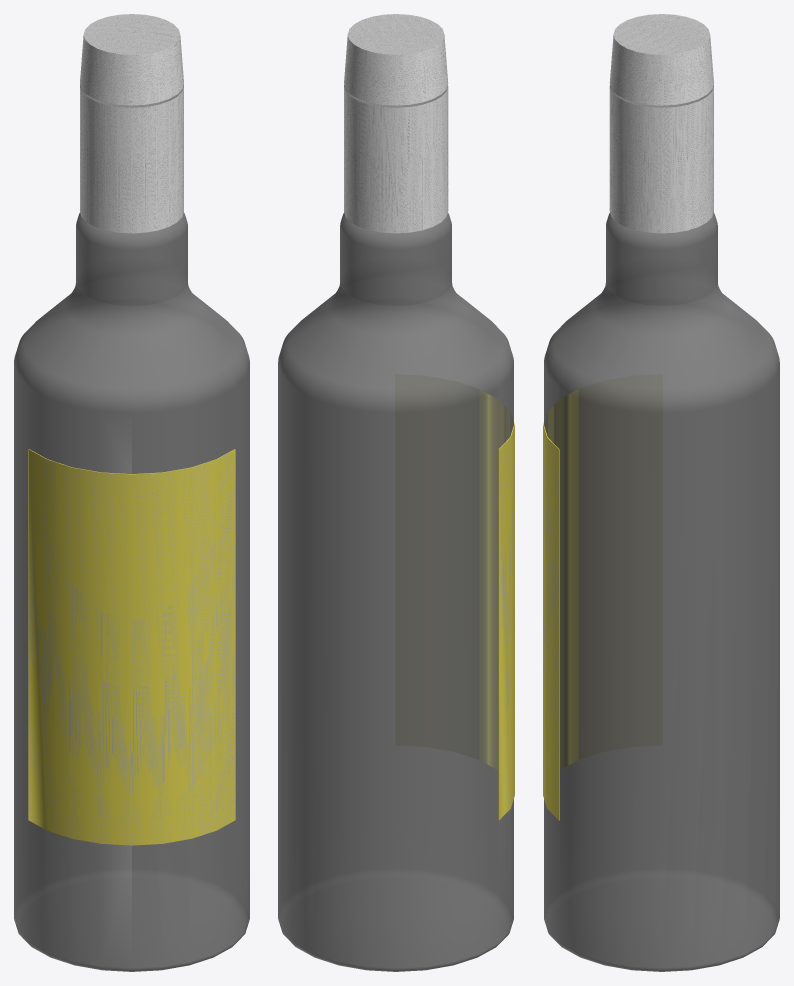
3 renders of one model, left to right at view 1: azimuth 30°, elevation 25°; view 2: azimuth 150°, elevation 25°; view 3: azimuth 270°, elevation 25°, orthographic.
Parts seen in each view (by area): view 1: mesh1_mesh1-geometry; view 2: mesh1_mesh1-geometry; view 3: mesh1_mesh1-geometry.
Part boxes in pixels (x1,y1,x2,y2): mesh1_mesh1-geometry: (14, 14, 249, 971); mesh1_mesh1-geometry: (278, 14, 514, 971); mesh1_mesh1-geometry: (543, 14, 779, 971).
Size of the model in its own units: 0.2285 by 0.9464 by 0.2282.
